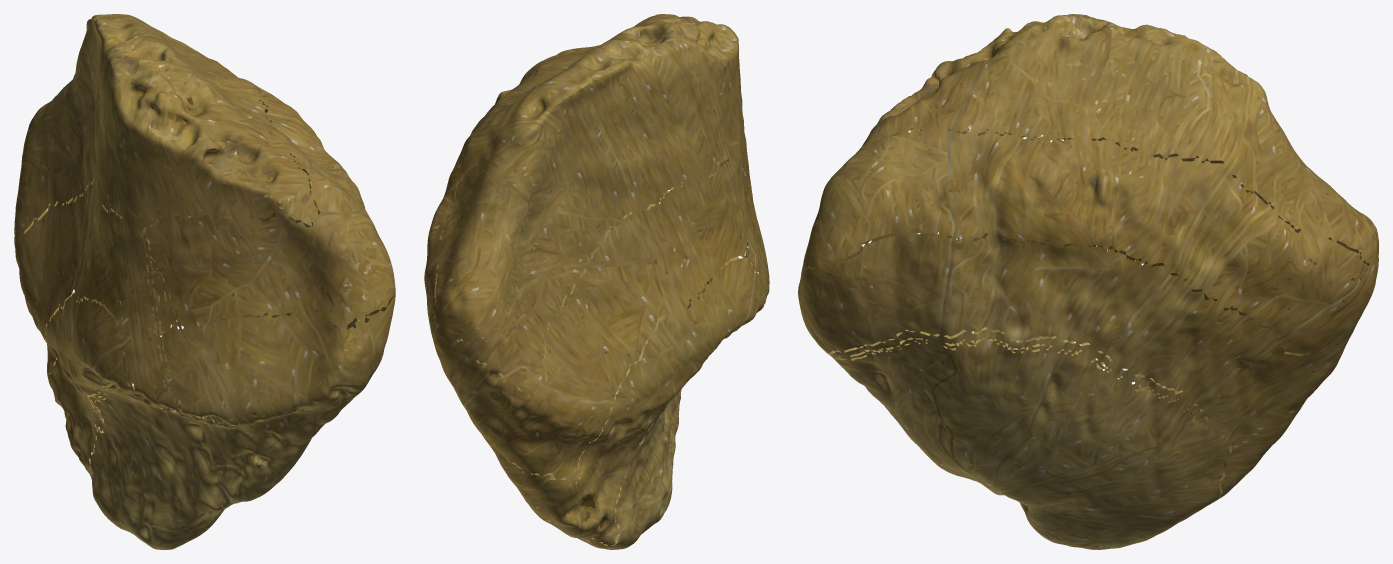
The model's file is human_patella.glb.
The picture shows the model from 3 angles, left to right: view 1: azimuth 30°, elevation 25°; view 2: azimuth 150°, elevation 25°; view 3: azimuth 270°, elevation 25°; orthographic projection. The views are drawn at different scales.
Bounding box in the file's own units: 22.35 × 47.45 × 48.42.
1 material, 1 textured.
